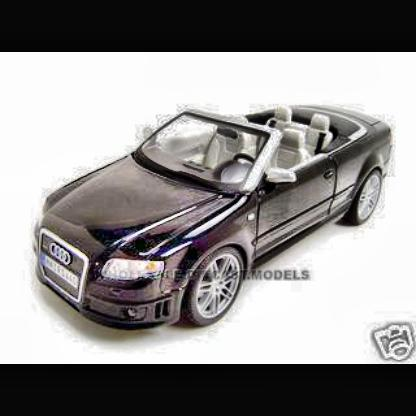Audi RS 4 Convertible 2008: (35, 100, 393, 340)
